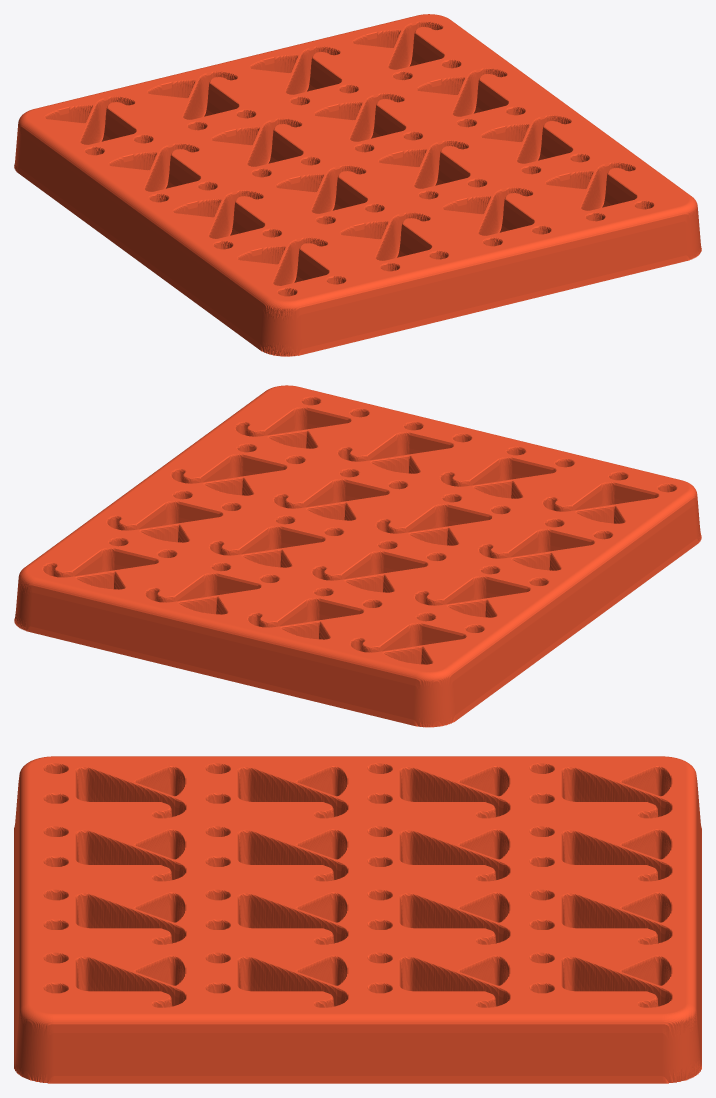
Rendered from mold.glb.
The picture shows the model from 3 angles, top to bottom: view 1: azimuth 30°, elevation 25°; view 2: azimuth 150°, elevation 25°; view 3: azimuth 270°, elevation 25°; orthographic projection. The views are drawn at different scales.
Parts seen in each view (by area): view 1: geometry_0; view 2: geometry_0; view 3: geometry_0.
Boxes of the visible parts, box(x1,y1,x2,y2) form: geometry_0: box(14, 14, 701, 356); geometry_0: box(14, 385, 701, 727); geometry_0: box(14, 756, 701, 1083).
Bounding box in the file's own units: 0.1454 × 0.0159 × 0.1569.
